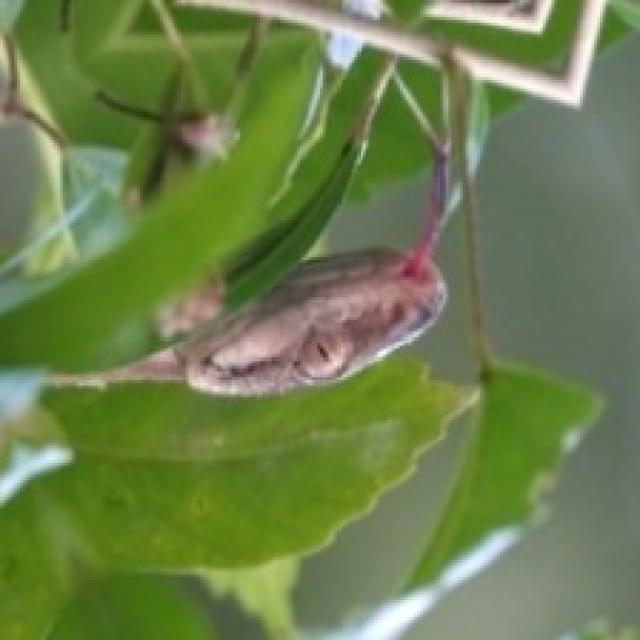dog-toothed cat snake: (49, 134, 457, 394)
